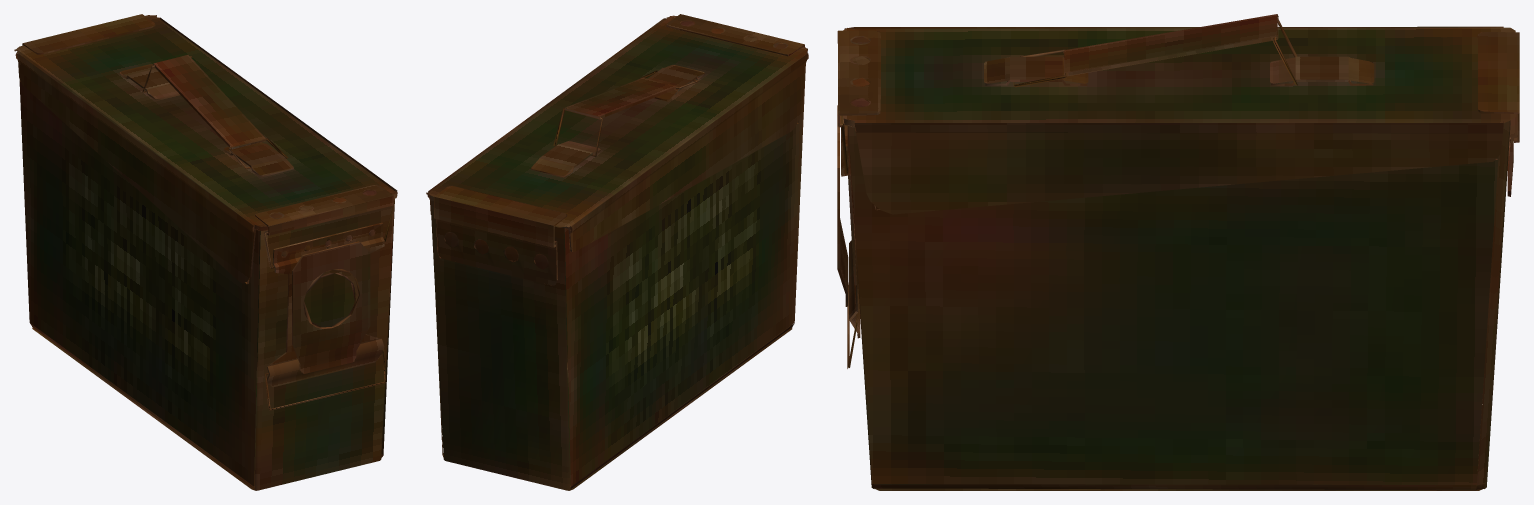
Rendered from ammo_box.glb.
3 renders of one model, left to right at view 1: azimuth 30°, elevation 25°; view 2: azimuth 150°, elevation 25°; view 3: azimuth 270°, elevation 25°, orthographic. The views are drawn at different scales.
Parts seen in each view (by area): view 1: ammo_box_handle_ring_b; view 2: ammo_box_handle_ring_b; view 3: ammo_box_handle_ring_b.
Part boxes in pixels (bbox=[...]): ammo_box_handle_ring_b: bbox=[14, 14, 397, 490]; ammo_box_handle_ring_b: bbox=[426, 14, 808, 490]; ammo_box_handle_ring_b: bbox=[837, 14, 1519, 490].
Bounding box in the file's own units: 0.0865 × 0.1774 × 0.2577.
Materials: 1 (1 with a texture image).
